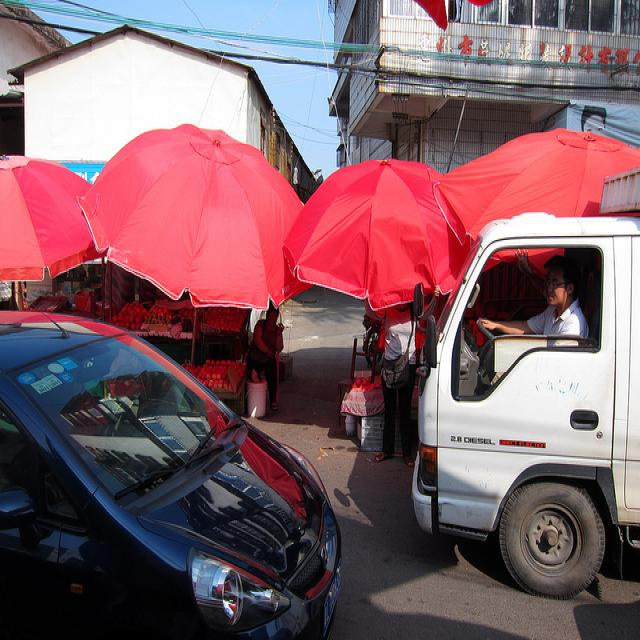motor: (361, 313, 383, 366)
